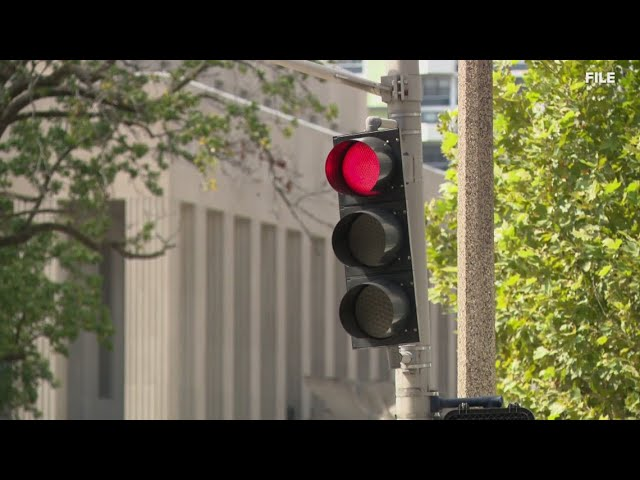red: (330, 129, 421, 350)
